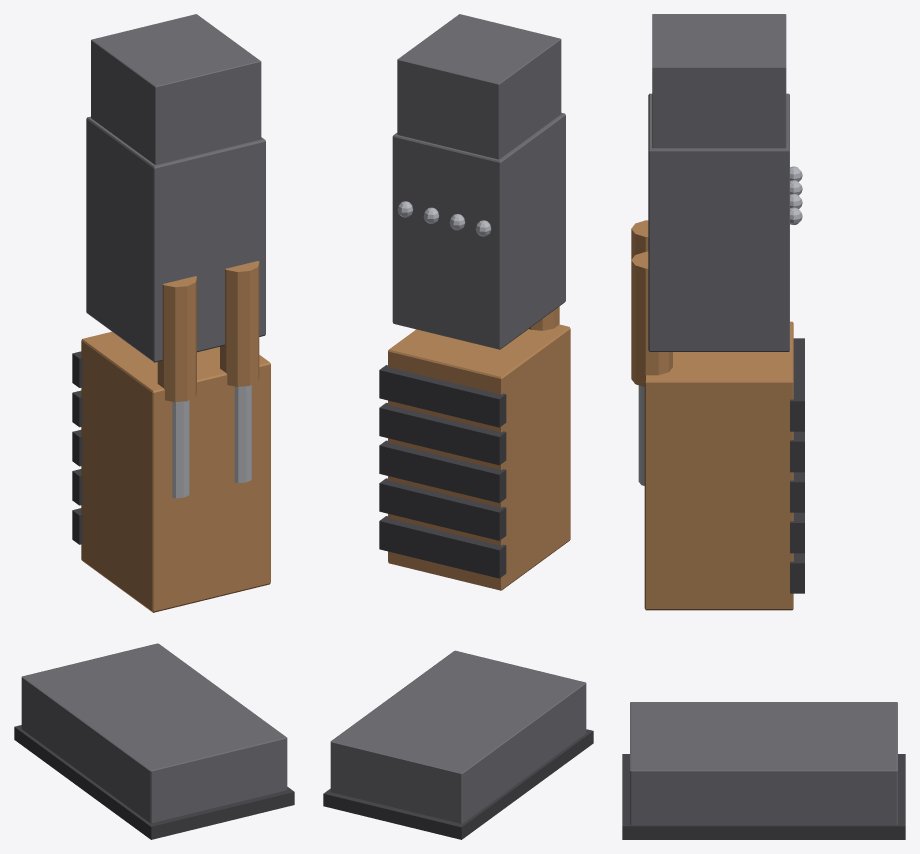
File: crusher-tread.glb
3 views of the same model, side by side, from view 1: azimuth 30°, elevation 25°; view 2: azimuth 150°, elevation 25°; view 3: azimuth 270°, elevation 25° (orthographic). The views are drawn at different scales.
Visible parts, largest first — view 1: shin, foot, thigh, hip, sole, sleeve, sleeve.001, rod, rod.001; view 2: thigh, foot, shin, hip, sole, tread3, tread4, tread1, tread0, tread2; view 3: shin, foot, thigh, hip, sole, sleeve, tread0, rod, tread1, tread3, tread2, tread4 (+1 smaller).
Part boxes in pixels (x1,y1,x2,y2): shin: (81,331,270,612); foot: (21,643,287,823); thigh: (86,116,265,362); hip: (91,14,261,164); sole: (14,725,294,839); sleeve: (220,261,259,386); sleeve.001: (157,276,196,402); rod: (234,385,251,483); rod.001: (172,400,189,498); thigh: (392,112,565,349); foot: (330,650,586,823); shin: (388,324,570,590); hip: (397,14,561,159); sole: (323,729,593,839); tread3: (379,478,506,540); tread4: (379,516,506,578); tread1: (379,402,506,465); tread0: (379,365,506,427); tread2: (379,440,506,502); shin: (644,321,793,610); foot: (630,702,897,824); thigh: (648,93,789,351); hip: (652,14,786,148); sole: (622,754,905,839); sleeve: (631,251,672,386); tread0: (790,338,804,431); rod: (638,385,644,485); tread1: (790,431,804,472); tread3: (790,512,804,553); tread2: (790,472,804,512); tread4: (790,553,804,593).
Bounding box in the file's own units: 0.23 × 1.13 × 0.38.
